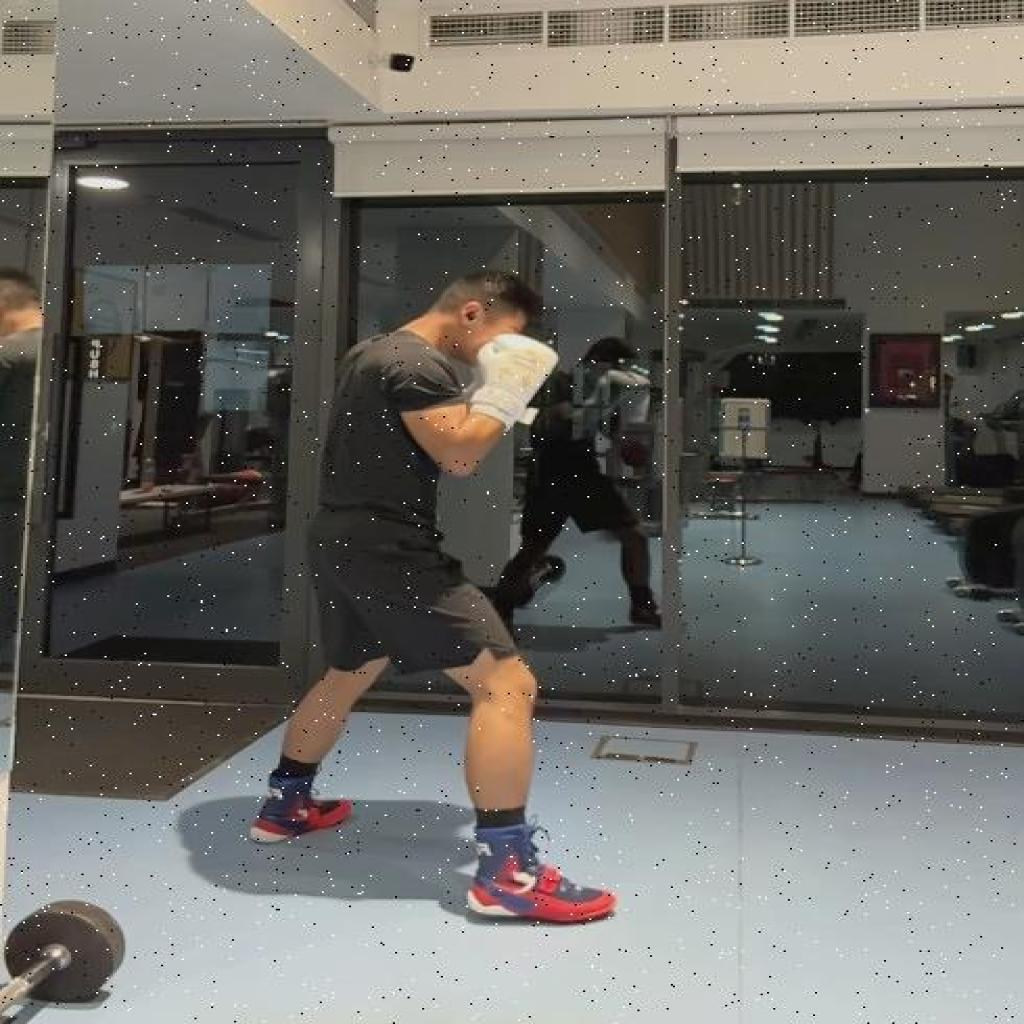no punch: (246, 270, 618, 928)
